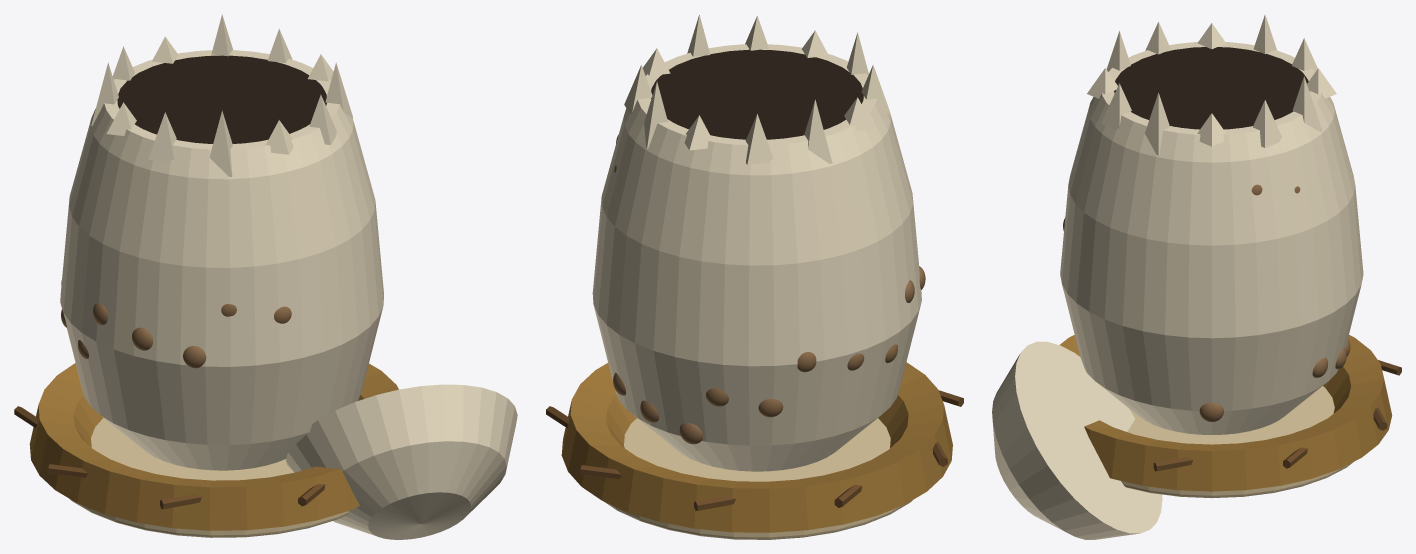
The model's file is huevo.glb.
3 views of the same model, side by side, from view 1: azimuth 30°, elevation 25°; view 2: azimuth 150°, elevation 25°; view 3: azimuth 270°, elevation 25° (orthographic). The views are drawn at different scales.
Visible parts, largest first — view 1: huevo, punta, nido, boca, arena, diente8, diente7, diente10, diente11, diente5, diente9; view 2: huevo, nido, boca, arena, diente5, diente4, diente2, diente1, diente3, diente7, diente6, diente11 (+1 smaller); view 3: huevo, punta, nido, boca, arena, diente11, diente1, diente2, diente10, diente0, diente8, diente5 (+1 smaller).
Boxes of the visible parts, x1=… form: huevo: x1=60, y1=50, x2=383, y2=470; punta: x1=286, y1=384, x2=517, y2=539; nido: x1=29, y1=363, x2=398, y2=530; boca: x1=117, y1=55, x2=326, y2=143; arena: x1=69, y1=418, x2=348, y2=537; diente8: x1=209, y1=110, x2=232, y2=176; diente7: x1=148, y1=112, x2=176, y2=161; diente10: x1=309, y1=94, x2=336, y2=144; diente11: x1=325, y1=62, x2=352, y2=118; diente5: x1=91, y1=62, x2=118, y2=125; diente9: x1=266, y1=120, x2=293, y2=154; huevo: x1=592, y1=44, x2=921, y2=471; nido: x1=561, y1=362, x2=952, y2=532; boca: x1=651, y1=49, x2=863, y2=139; arena: x1=604, y1=418, x2=912, y2=539; diente5: x1=804, y1=99, x2=832, y2=163; diente4: x1=745, y1=114, x2=773, y2=164; diente2: x1=644, y1=81, x2=667, y2=148; diente1: x1=624, y1=65, x2=652, y2=113; diente3: x1=684, y1=115, x2=712, y2=150; diente7: x1=861, y1=65, x2=890, y2=113; diente6: x1=844, y1=97, x2=874, y2=131; diente11: x1=687, y1=14, x2=710, y2=56; huevo: x1=1060, y1=42, x2=1363, y2=434; punta: x1=992, y1=341, x2=1162, y2=539; nido: x1=1059, y1=335, x2=1392, y2=491; boca: x1=1114, y1=47, x2=1309, y2=129; arena: x1=1121, y1=386, x2=1352, y2=498; diente11: x1=1145, y1=92, x2=1169, y2=155; diente1: x1=1253, y1=100, x2=1281, y2=147; diente2: x1=1292, y1=76, x2=1322, y2=131; diente10: x1=1101, y1=83, x2=1131, y2=129; diente0: x1=1197, y1=113, x2=1225, y2=146; diente8: x1=1106, y1=31, x2=1130, y2=71; diente5: x1=1253, y1=14, x2=1276, y2=53.
Bounding box in the file's own units: 0.9576 × 1.05 × 0.9198.
